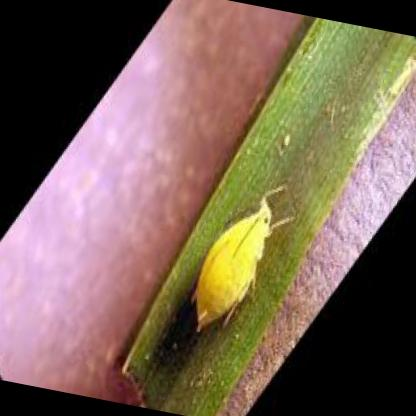schizaphis graminum: (193, 196, 271, 328)
